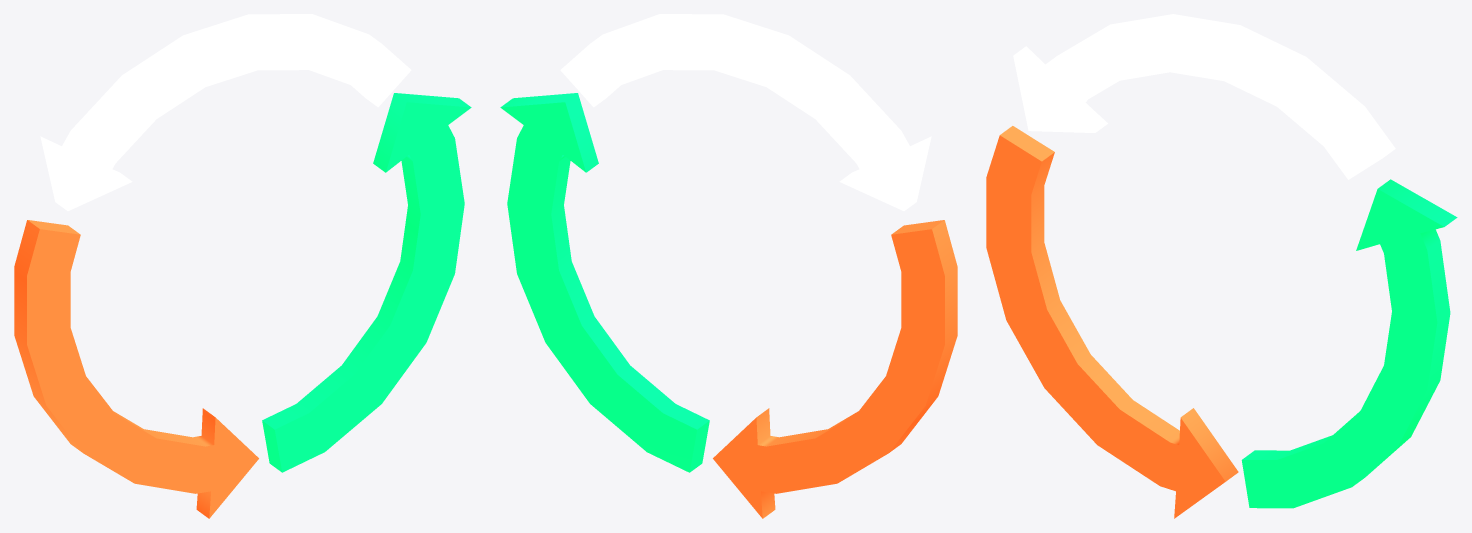
File: presentTarget2.fbx
3 views of the same model, side by side, from view 1: azimuth 30°, elevation 25°; view 2: azimuth 150°, elevation 25°; view 3: azimuth 330°, elevation 25° (orthographic). The views are drawn at different scales.
Visible parts, largest first — view 1: pPipe1, pPipe2, pPipe3; view 2: pPipe1, pPipe2, pPipe3; view 3: pPipe3, pPipe2, pPipe1.
Part boxes in pixels (x1=…): pPipe1: x1=262, y1=93, x2=471, y2=472; pPipe2: x1=40, y1=14, x2=411, y2=210; pPipe3: x1=14, y1=220, x2=258, y2=518; pPipe1: x1=500, y1=93, x2=709, y2=472; pPipe2: x1=560, y1=14, x2=931, y2=210; pPipe3: x1=713, y1=220, x2=957, y2=518; pPipe3: x1=986, y1=126, x2=1238, y2=518; pPipe2: x1=1013, y1=14, x2=1395, y2=179; pPipe1: x1=1241, y1=179, x2=1457, y2=508.
Bounding box in the file's own units: 101 × 105 × 5.02.
